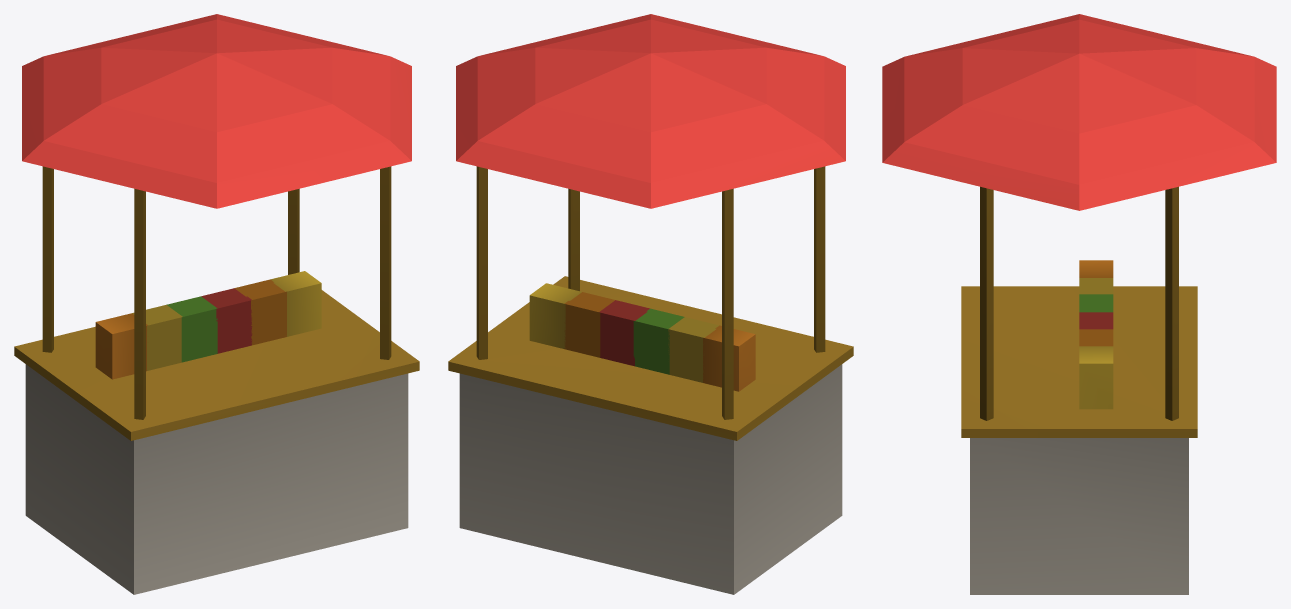
The model's file is du_kiosk_lo-cJAMVI87.glb.
3 views of the same model, side by side, from view 1: azimuth 30°, elevation 25°; view 2: azimuth 150°, elevation 25°; view 3: azimuth 270°, elevation 25° (orthographic).
Size of the model in its own units: 2.7 by 3.1 by 2.34.
